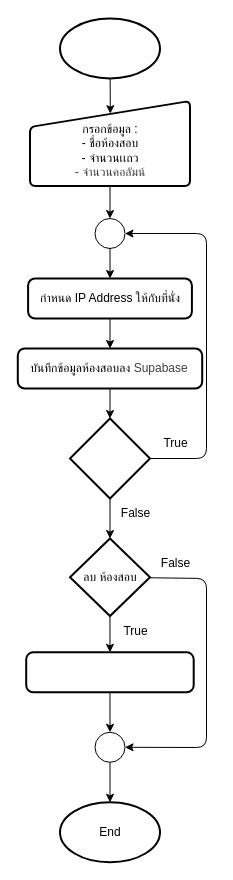
This 233x880 diagram has some shape labels left out. The shapes that lost their labels are listed below. From the top down, each one's centre as x and y in pixels, then its label:
At (109,48): "สร้างห้องสอบ".
At (109,458): "เเก้ไข IP Address".
At (109,672): "ลบข้อมูลห้องสอบจาก Supabase".
